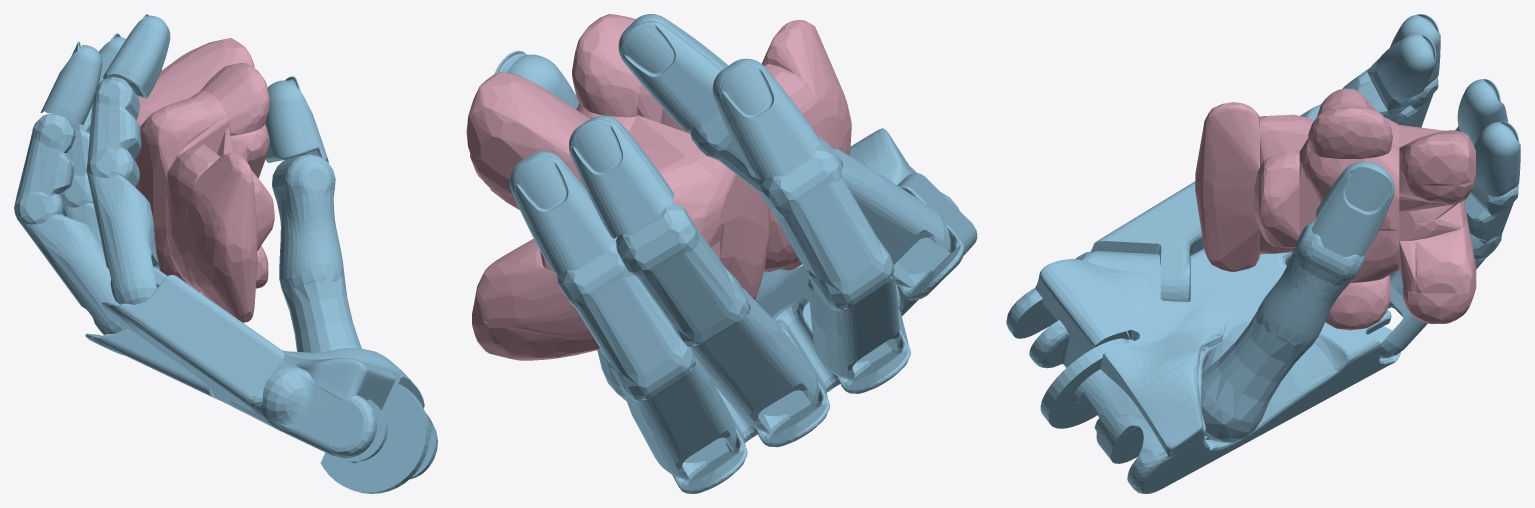
3 views of the same model, side by side, from view 1: azimuth 30°, elevation 25°; view 2: azimuth 150°, elevation 25°; view 3: azimuth 270°, elevation 25° (orthographic). The views are drawn at different scales.
Visible parts, largest first — view 1: hand_isaac_q, world; view 2: hand_isaac_q, world; view 3: hand_isaac_q, world.
Boxes of the visible parts, box(x1,y1,x2,y2) form: hand_isaac_q: box(14, 14, 437, 493); world: box(134, 38, 274, 322); hand_isaac_q: box(495, 14, 977, 493); world: box(466, 14, 851, 360); hand_isaac_q: box(1006, 14, 1520, 493); world: box(1195, 88, 1476, 330).
Size of the model in its own units: 0.1165 by 0.146 by 0.1711.
